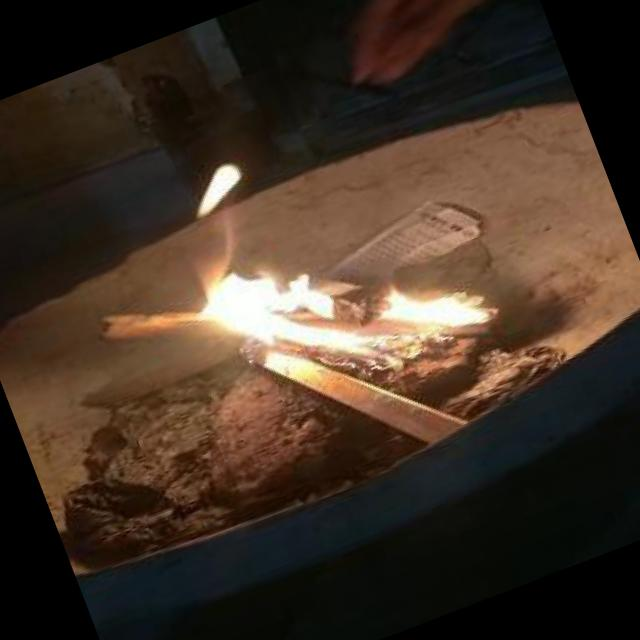fire: (130, 68, 546, 438)
